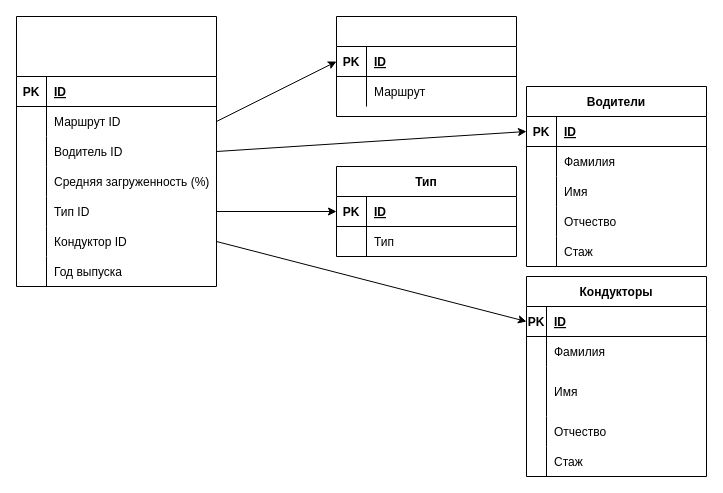
The diagram is 723 pixels wide and 493 high, and some of its shapes have lost their labels. Here are the shapes that lost their labels. From the top down, the box of each, then its label:
(336, 16, 516, 116): Маршруты
(16, 16, 216, 286): Общественный транспорт
